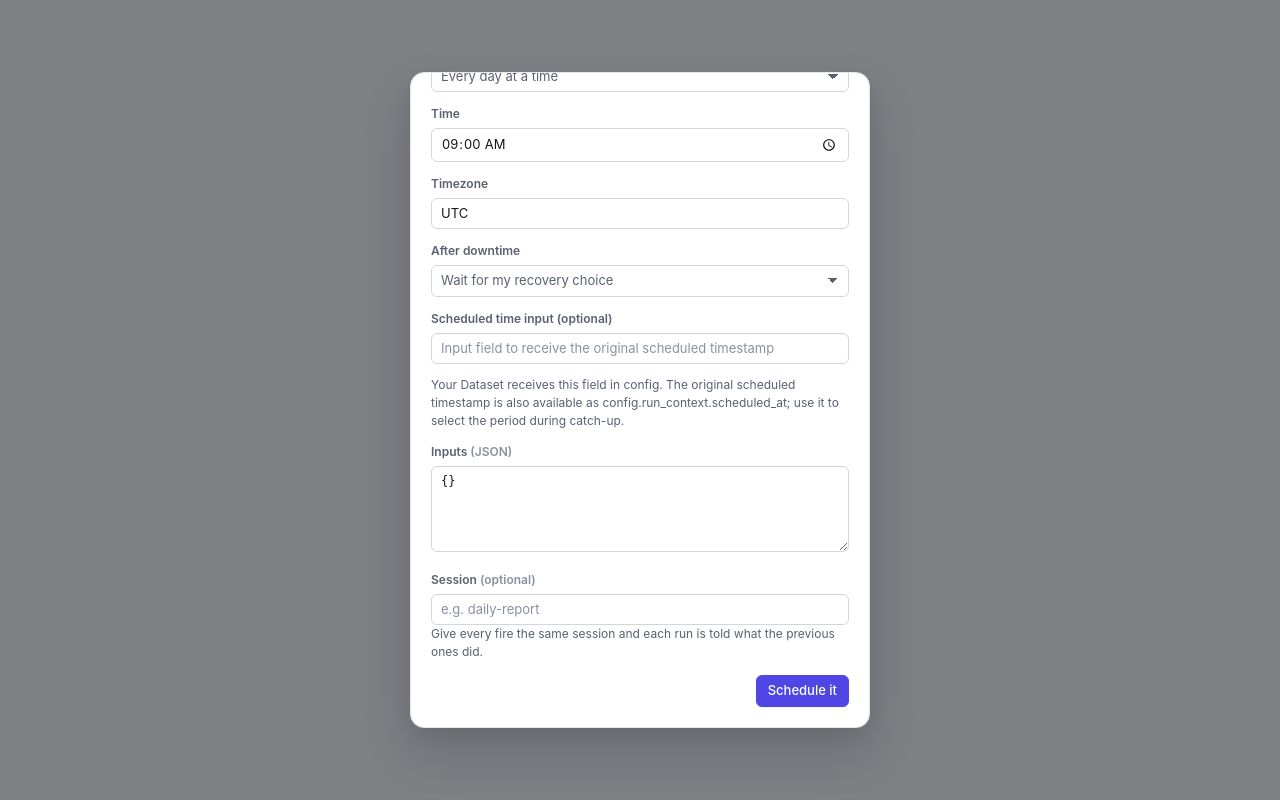
Test: SchedulePanel › surfaces a refusal from the server
(page scrolled)
Step 1. Click the button "Schedule it" → x=802, y=691, box [756,675,849,707]
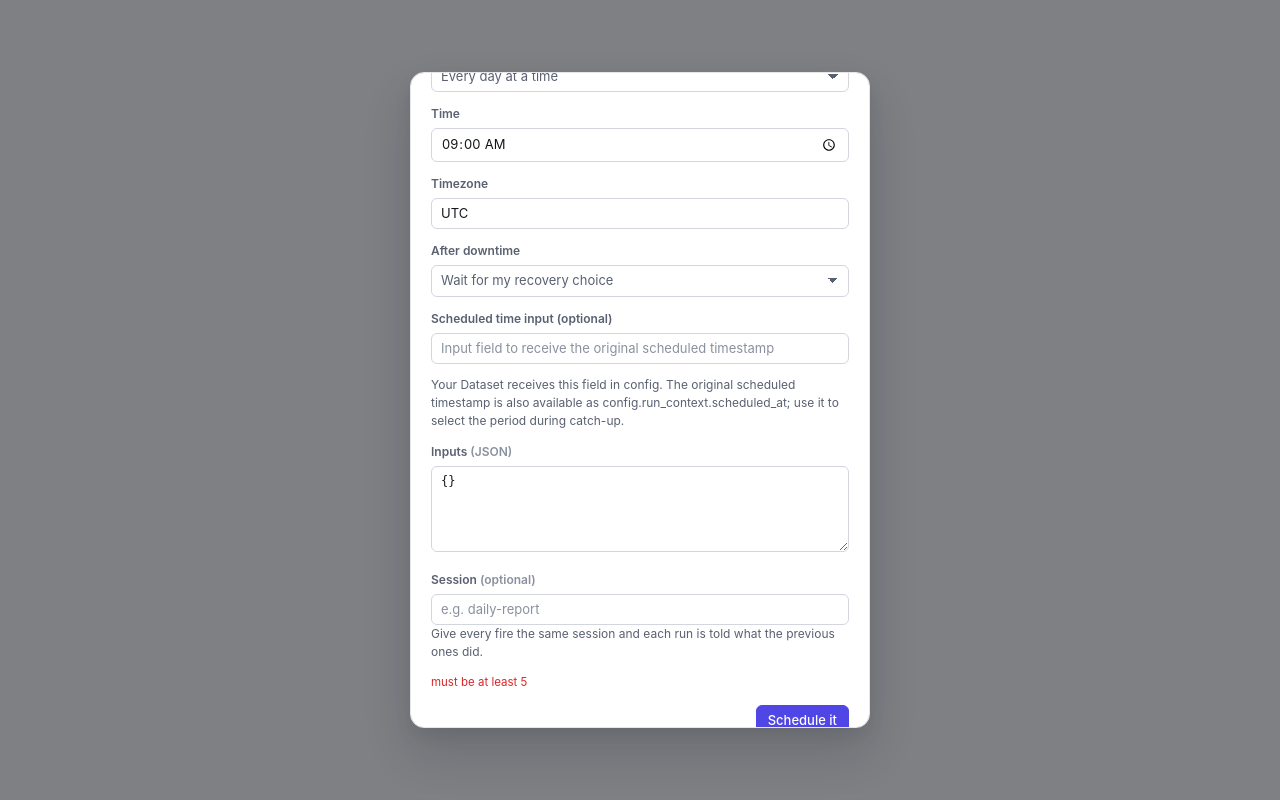
Now the text "must be at least 5" is shown, box [431,675,527,689]
